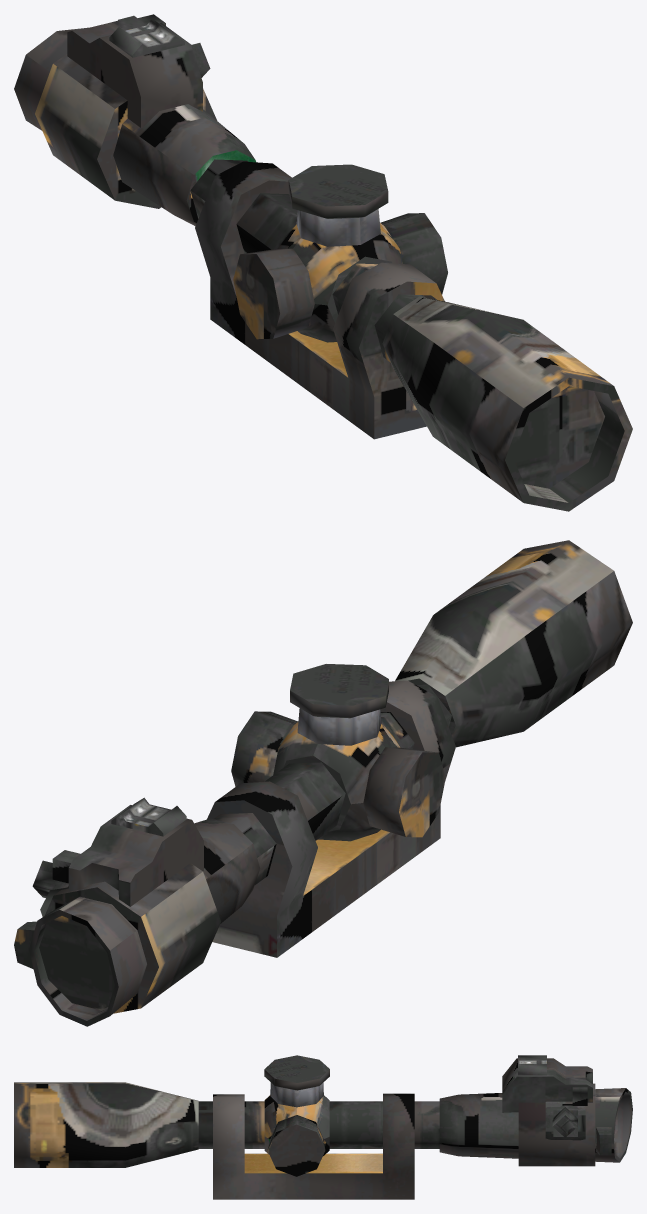
Rendered from Sniper_Rifle_jjq_jmj_02_Sniper_Scope_Main_(000593).glb.
3 views of the same model, one above another, from view 1: azimuth 30°, elevation 25°; view 2: azimuth 150°, elevation 25°; view 3: azimuth 270°, elevation 25° (orthographic). The views are drawn at different scales.
Visible parts, largest first — view 1: jjq_jmj_02; view 2: jjq_jmj_02; view 3: jjq_jmj_02.
Part boxes in pixels (box(x1,y1,x2,y2)): jjq_jmj_02: box(14, 14, 632, 511); jjq_jmj_02: box(14, 540, 632, 1026); jjq_jmj_02: box(14, 1055, 632, 1199).
Bounding box in the file's own units: 0.1062 × 0.1268 × 0.5504.
1 material, 1 textured.
